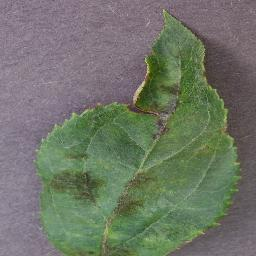apple healthy: (33, 7, 242, 255)
